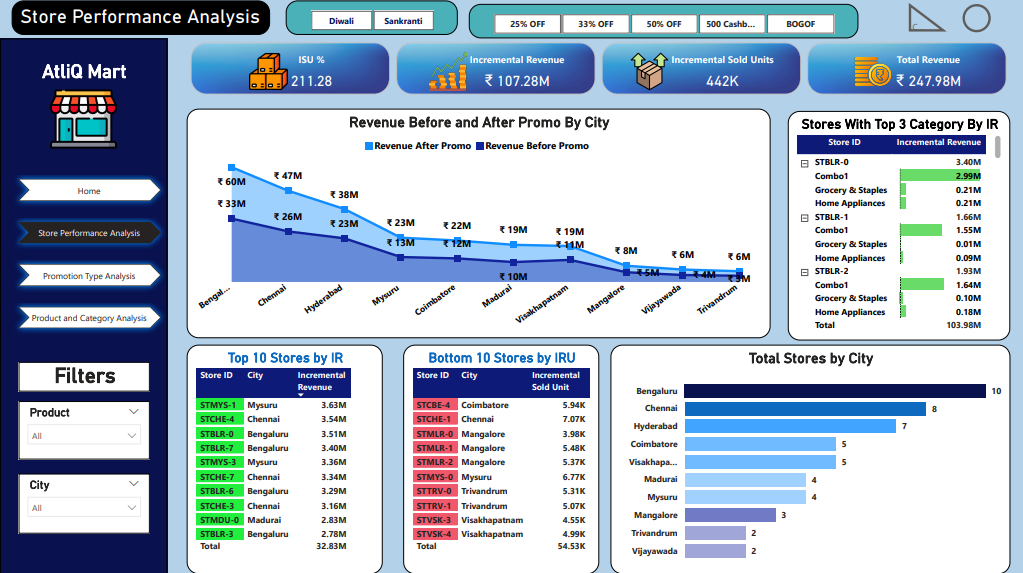

Layout of this report page (visuals, bound fields, positions):
{"tool":"powerbi","page":{"name":"Store Performance Analysis","canvas":[1280,720],"ordinal":1},"visuals":[{"type":"slicer","fields":{"Values":["dim_campaigns.campaign_name"]},"box":[356.7,3.3,215,43.3],"z":0},{"type":"slicer","fields":{"Values":["fact_events.promo_type"]},"box":[586.1,7.2,486.7,43.2],"z":1000},{"type":"cardVisual","fields":{"Data":["Measures (3).ISU %","Measures (3).Total Incremental Revenue","Measures (3).Total ISU","Measures (3).Total RAP"]},"box":[233.3,50,1030,75],"z":2000},{"type":"tableEx","title":"Top 10 Stores by IR","fields":{"Values":["dim_stores.store_id","dim_stores.city","Sum(fact_events.IR)"]},"box":[233.3,433.3,245,286.7],"z":3000},{"type":"tableEx","title":"Bottom 10 Stores by IRU","fields":{"Values":["dim_stores.store_id","dim_stores.city","Sum(fact_events.ISU)"]},"box":[503.3,433.3,245,286.7],"z":4000},{"type":"pivotTable","title":"Stores With Top 3 Category By IR","fields":{"Rows":["dim_stores.store_id","dim_products.category"],"Values":["Sum(fact_events.IR)"]},"box":[985,141.7,278.3,286.7],"z":5000},{"type":"actionButton","title":"Clear All Slicers","box":[1136.2,5.8,47.5,36],"z":6000},{"type":"textbox","box":[0,50.4,208.8,669.6],"z":7000},{"type":"slicer","fields":{"Values":["dim_stores.city"]},"box":[23,594.7,164.2,74.9],"z":8000},{"type":"textbox","title":"Filters","box":[23,455,164.2,37.4],"z":9000},{"type":"slicer","fields":{"Values":["dim_products.product_name"]},"box":[23,504,164.2,73.4],"z":10000},{"type":"areaChart","title":"Revenue Before and After Promo By City","fields":{"Category":["dim_stores.city"],"Y":["Measures (3).Total RAP","Measures (3).Total RBP"]},"box":[233.3,138.3,730,286.7],"z":11000},{"type":"pageNavigator","box":[14.4,218.9,194.4,205.9],"z":12000},{"type":"actionButton","title":"Clear All Filters","box":[1195,0,51.7,50],"z":13000},{"type":"textbox","title":"Store Performance Analysis","box":[15,3.3,323.3,43.3],"z":14000},{"type":"clusteredBarChart","title":"Total Stores by City","fields":{"Category":["dim_stores.city"],"Y":["CountNonNull(dim_stores.store_id)"]},"box":[763.2,433.4,499.7,286.6],"z":15000},{"type":"textbox","title":"AtliQ Mart","box":[23,77.8,164.2,119.5],"z":16000},{"type":"image","box":[37.4,105.1,133.9,92.2],"z":17000}]}

Visuals, with their boxes in screenshot pixels (x1, y1, x2, y2), scaled from the page's 1280x720 canvas onto the 1023x573 screenshot:
slicer - dim_campaigns.campaign_name: 285:3:457:37
slicer - fact_events.promo_type: 468:6:857:40
cardVisual - Measures (3).ISU % x Measures (3).Total Incremental Revenue: 186:40:1010:99
"Top 10 Stores by IR" tableEx: 186:345:382:572
"Bottom 10 Stores by IRU" tableEx: 402:345:598:572
"Stores With Top 3 Category By IR" pivotTable: 787:113:1010:341
"Clear All Slicers" actionButton: 908:5:946:33
textbox: 0:40:167:572
slicer - dim_stores.city: 18:473:150:533
"Filters" textbox: 18:362:150:392
slicer - dim_products.product_name: 18:401:150:460
"Revenue Before and After Promo By City" areaChart: 186:110:770:338
pageNavigator: 12:174:167:338
"Clear All Filters" actionButton: 955:0:996:40
"Store Performance Analysis" textbox: 12:3:270:37
"Total Stores by City" clusteredBarChart: 610:345:1009:572
"AtliQ Mart" textbox: 18:62:150:157
image: 30:84:137:157
